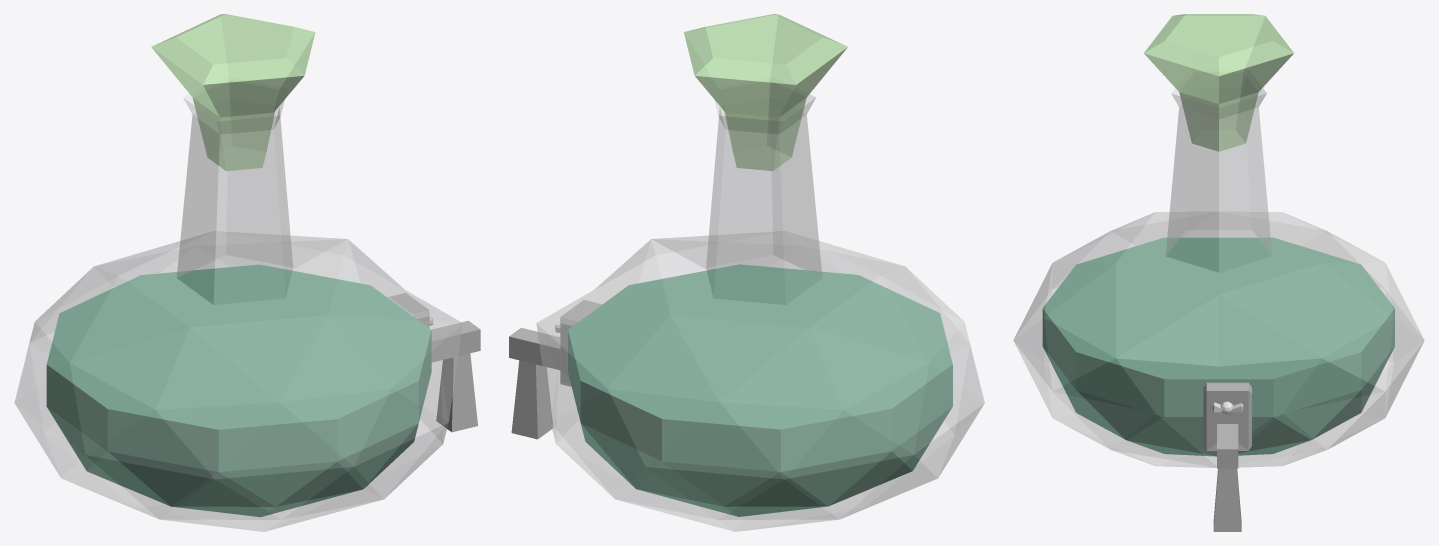
Rendered from rgb_green.fbx.
3 views of the same model, side by side, from view 1: azimuth 30°, elevation 25°; view 2: azimuth 150°, elevation 25°; view 3: azimuth 270°, elevation 25° (orthographic). The views are drawn at different scales.
Visible parts, largest first — view 1: Bottle, potion, cork, Spout; view 2: Bottle, potion, cork, Spout; view 3: Bottle, potion, cork, Spout.
Boxes of the visible parts, x1,y1,x2,y2 form: Bottle: [14, 94, 462, 531]; potion: [46, 264, 431, 517]; cork: [151, 14, 315, 170]; Spout: [387, 293, 480, 432]; Bottle: [536, 94, 984, 531]; potion: [568, 264, 952, 516]; cork: [684, 14, 847, 170]; Spout: [509, 300, 601, 439]; Bottle: [1013, 88, 1424, 467]; potion: [1042, 237, 1394, 456]; cork: [1144, 14, 1293, 151]; Spout: [1203, 382, 1251, 531].
Size of the model in its own units: 122 by 124 by 113.
